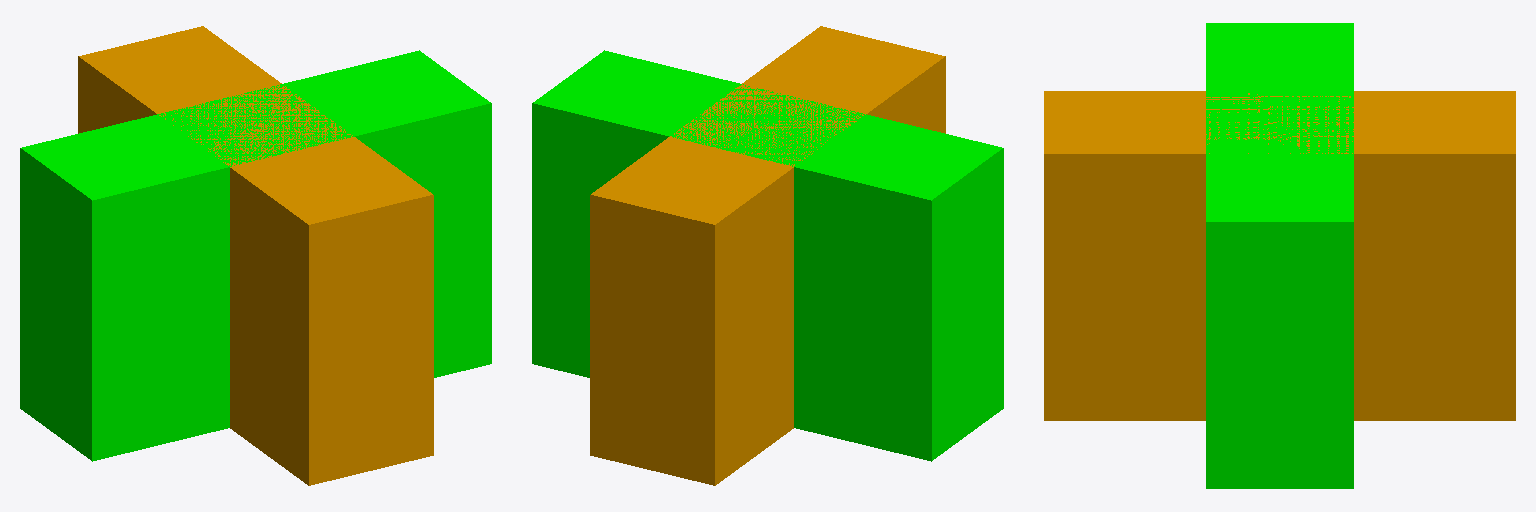
robot.urdf — cross:
<?xml version="0.0" ?>
<robot name="cross">
    <material name="green">
        <color rgba="0 1 0 1"/>
    </material>
    <link name="baseLink">
        <contact>
            <lateral_friction value="1.2"/>
            <rolling_friction value="0.001"/>
            <inertia_scaling value="0.5"/>
        </contact>
        <inertial>
            <origin rpy="0 0 0" xyz="0 0 0"/>
            <mass value="0.2"/>
            <inertia ixx="1" ixy="0" ixz="0" iyy="1" iyz="0" izz="1"/>
        </inertial>
        ##1
        <visual>
            <origin rpy="0 0 0" xyz="0 0 0"/>
            <geometry>
                <box size="0.08 0.025 0.05"/>
            </geometry>
            <material name="green"/>
        </visual>
        <collision>
            <origin rpy="0 0 0" xyz="0 0 0"/>
            <geometry>
                <box size="0.08 0.025 0.05"/>
            </geometry>
        </collision>
        ##2
        <visual>
            <origin rpy="0 0 0" xyz="0 0 0"/>
            <geometry>
                <box size="0.025 0.08 0.05"/>
            </geometry>
            <material name="red"/>
        </visual>
        <collision>
            <origin rpy="0 0 0" xyz="0 0 0"/>
            <geometry>
                <box size="0.025 0.08 0.05"/>
            </geometry>
        </collision>
    </link>
</robot>

--- Render facts (derived) ---
Views: 3 orthographic renders of the robot side by side, from view 1: azimuth 30°, elevation 25°; view 2: azimuth 150°, elevation 25°; view 3: azimuth 270°, elevation 25°.
Robot: cross — 1 links, 0 joints (none); root link baseLink; default pose: all joints at 0.
Visible links, largest first — view 1: baseLink; view 2: baseLink; view 3: baseLink.
Boxes of the visible links, x1,y1,x2,y2 form: baseLink: [20, 26, 491, 485]; baseLink: [532, 26, 1003, 485]; baseLink: [1044, 23, 1515, 488].
Size in the robot's own frame: 0.08 by 0.08 by 0.05 metres.
Geometry: primitives only (box / cylinder / sphere), no mesh files.